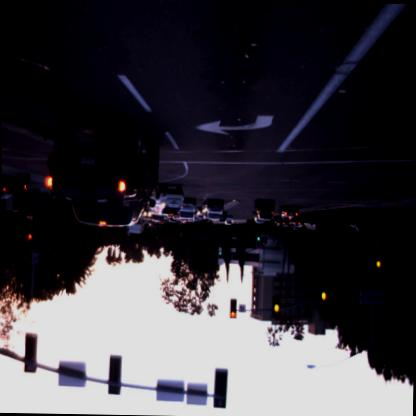trafficlight: (373, 256, 385, 286), (318, 286, 328, 312), (228, 297, 238, 318), (272, 297, 280, 320)
